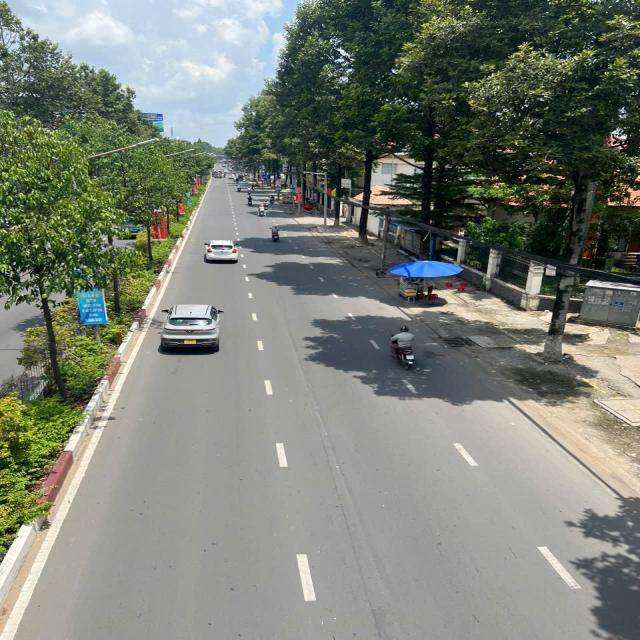car: (157, 299, 226, 356), (201, 236, 243, 266)
motobyte: (385, 321, 421, 373), (266, 222, 287, 246), (257, 202, 269, 218), (245, 193, 256, 207), (268, 192, 278, 206), (235, 181, 244, 193)
